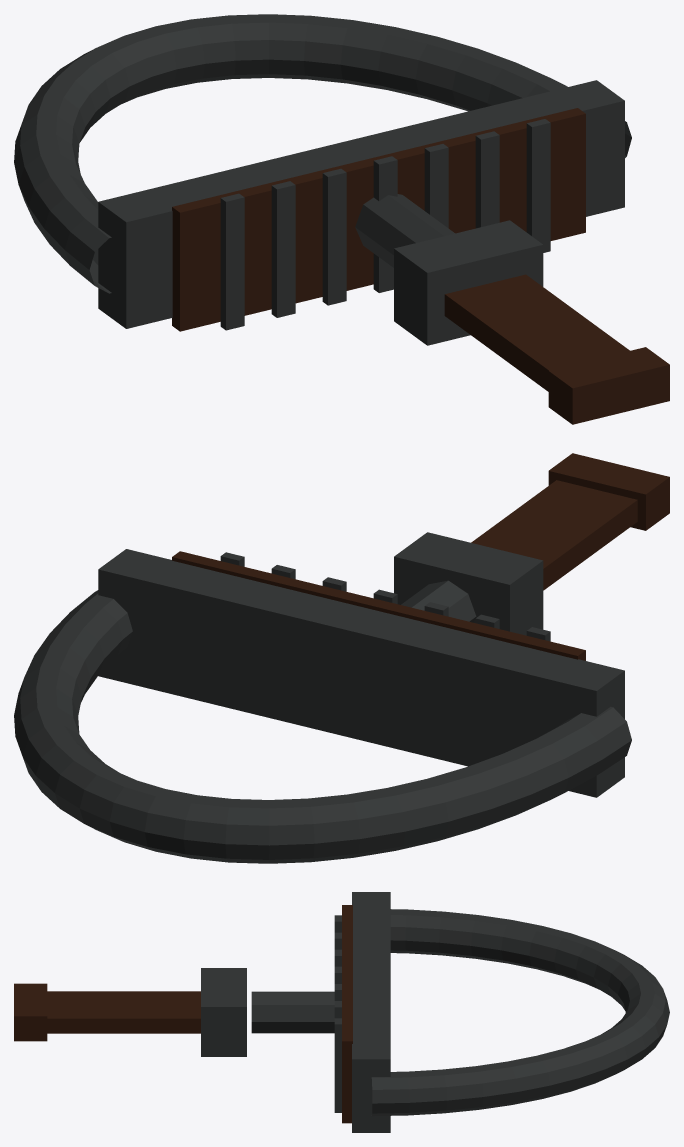
The model's file is stirrup_LOD0.obj.
3 renders of one model, top to bottom at view 1: azimuth 30°, elevation 25°; view 2: azimuth 150°, elevation 25°; view 3: azimuth 270°, elevation 25°, orthographic. The views are drawn at different scales.
Parts seen in each view (by area): view 1: SM_VelegRadStirrup_LOD0; view 2: SM_VelegRadStirrup_LOD0; view 3: SM_VelegRadStirrup_LOD0.
Boxes of the visible parts, <box> form: SM_VelegRadStirrup_LOD0: <box>14,14,669,424</box>; SM_VelegRadStirrup_LOD0: <box>14,453,669,863</box>; SM_VelegRadStirrup_LOD0: <box>14,892,669,1132</box>.
Bounding box in the file's own units: 0.234 × 0.053 × 0.356.
